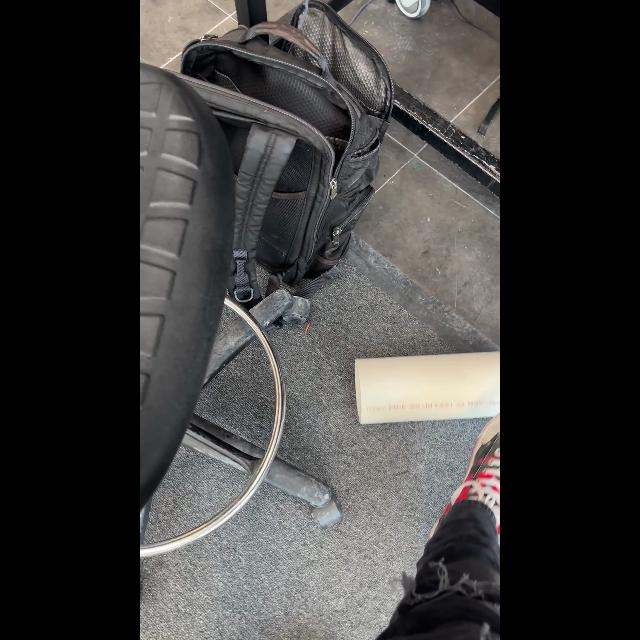CORAL: (354, 350, 498, 424)
